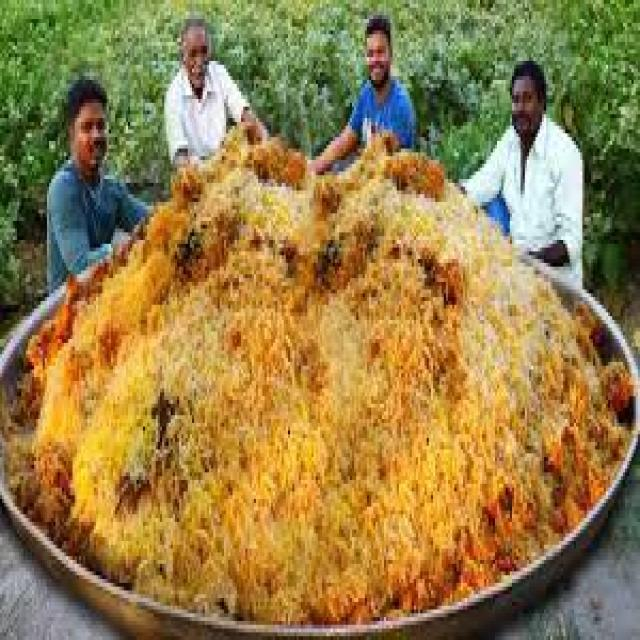chicken biryani: (30, 228, 640, 622)
